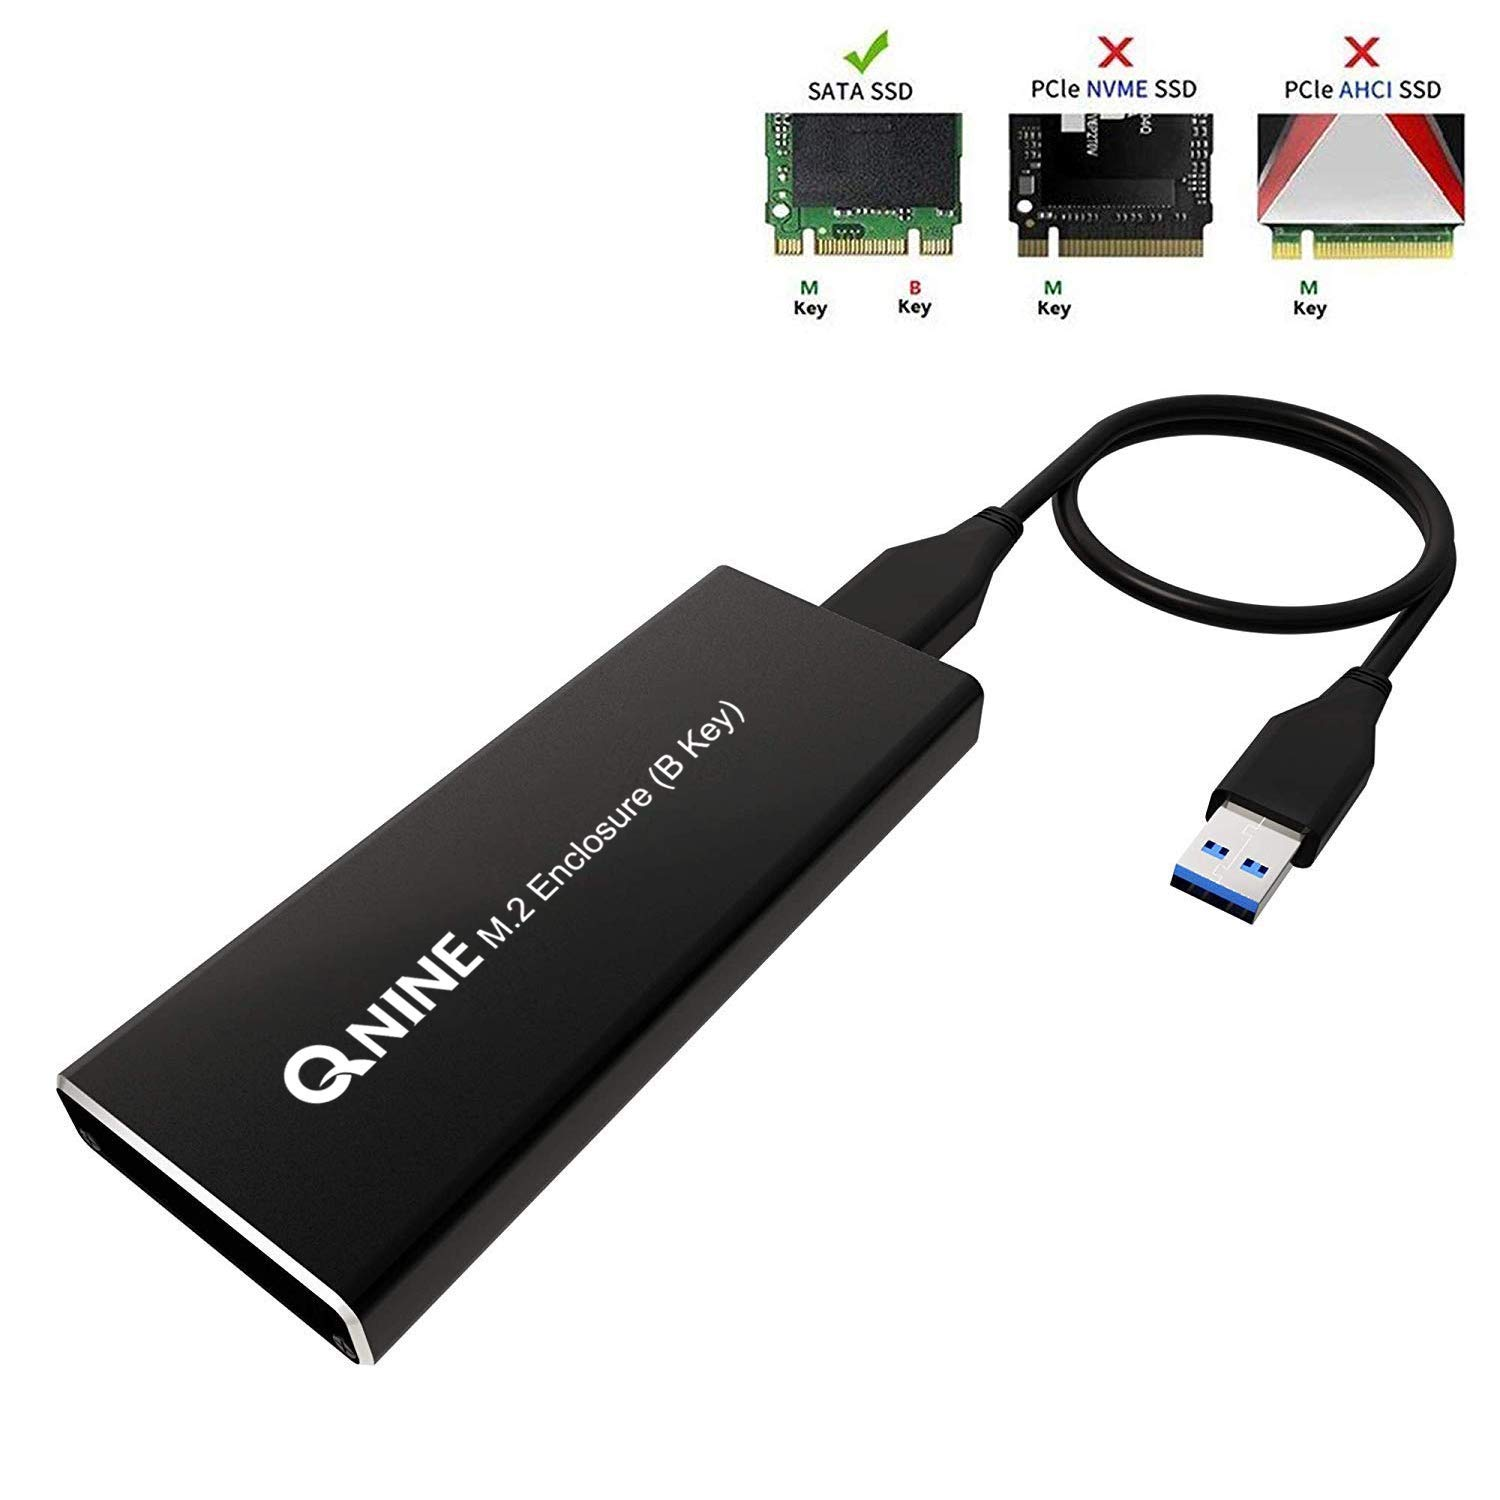M2 SSD Enclosure: (18, 505, 1107, 1401)
